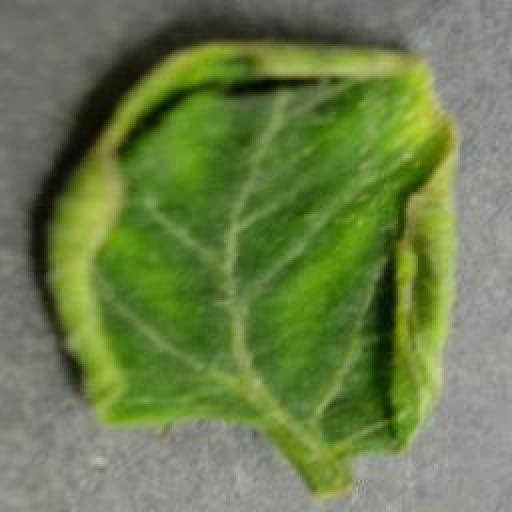Yellow Leaf Curl Virus: (35, 37, 463, 452)
